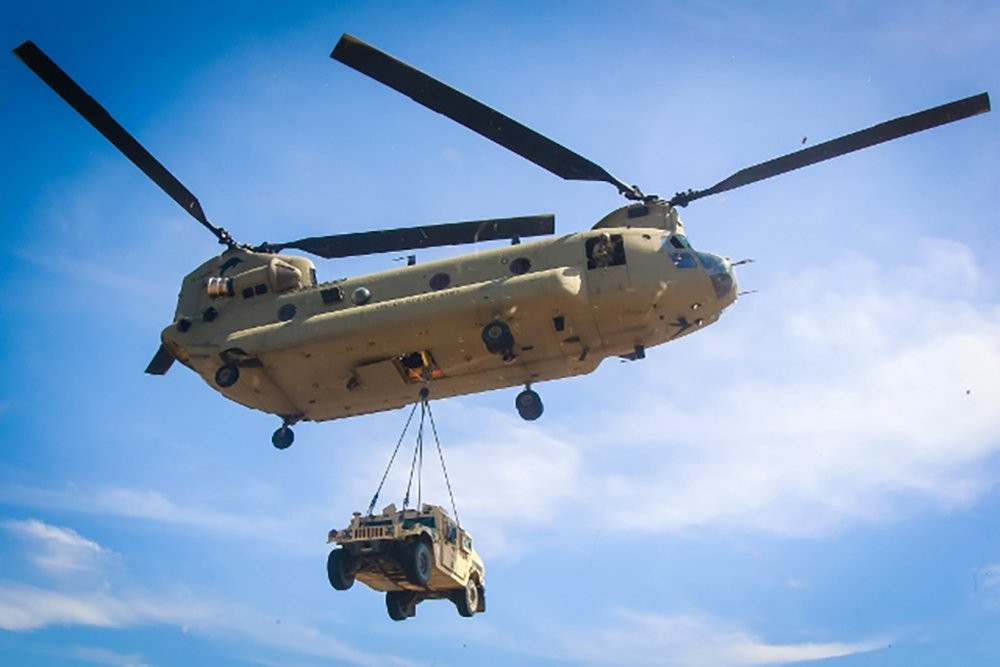HMMWV: (313, 491, 510, 632)
chinook: (133, 151, 783, 448)
